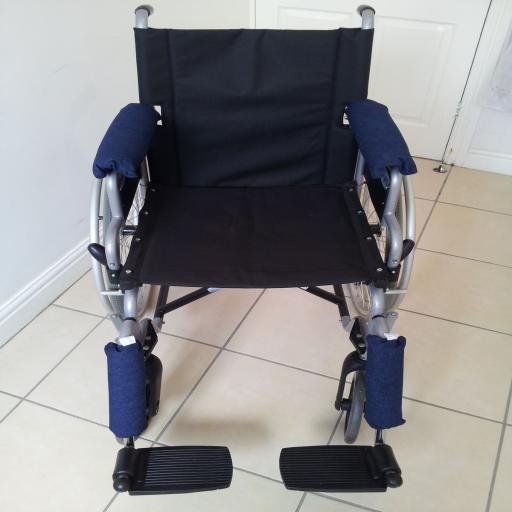wheelchair: (89, 6, 415, 494)
